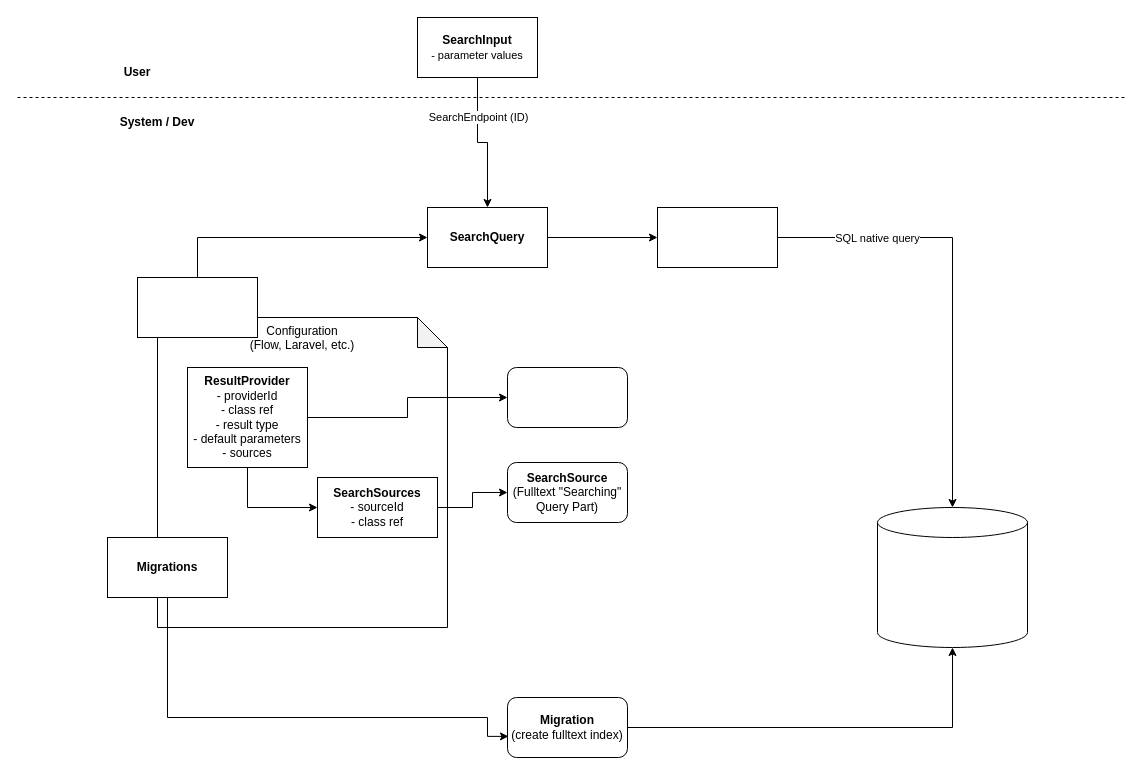
The diagram is 1146 pixels wide and 775 high, and some of its shapes have lost their labels. The shapes that lost their labels are listed below. From the top down, each one's centre as x and y in pixels, then its label:
(717,237): QueryBuilder
(197,307): SearchEndpoint - enpointId
(567,397): ResultProvider (Filtering and Mapping "Merging" Query Part)
(952,577): DB
